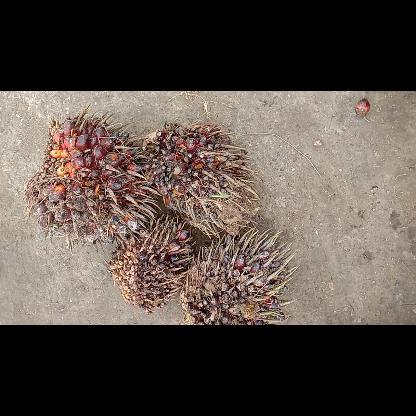TBS abnormal: (142, 120, 254, 232), (180, 230, 288, 324), (109, 216, 191, 312)
TBS masak: (25, 116, 156, 233)
